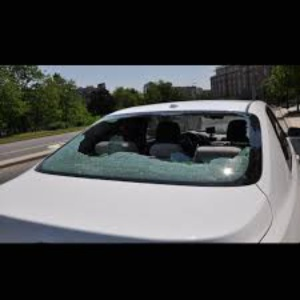rear_windshield_glass: (74, 113, 255, 183)
